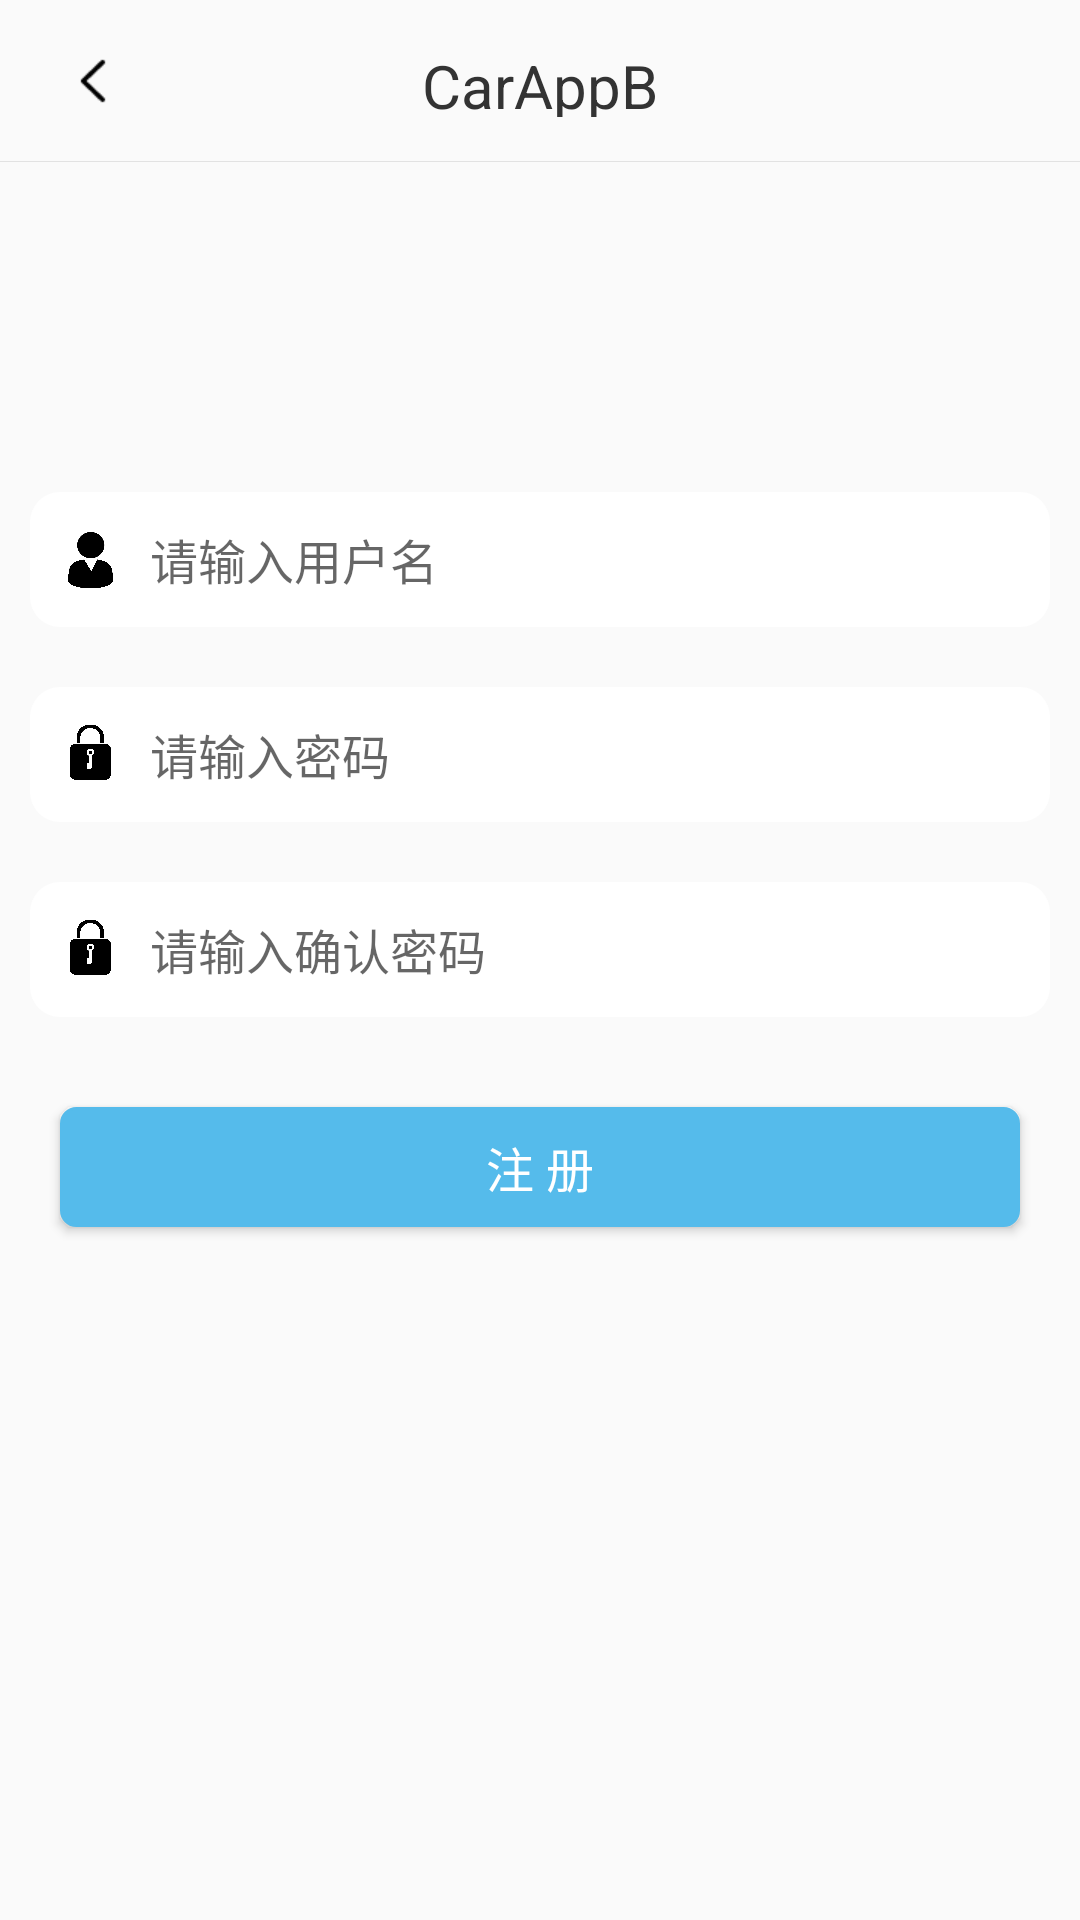

Icon click points for this 1080 × 1920 phone screenshot, format (x,y):
back: (93,81)
password: (90,752), (90,947)
user: (90,560)
